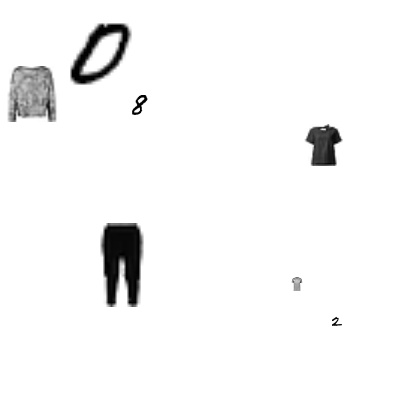0: (56, 9, 140, 93)
2: (329, 315, 343, 329)
8: (125, 90, 153, 118)
Pullover: (4, 66, 60, 122)
Shirt: (302, 124, 344, 166)
T-shirt/top: (290, 277, 304, 291)
Trouser: (80, 223, 164, 307)
